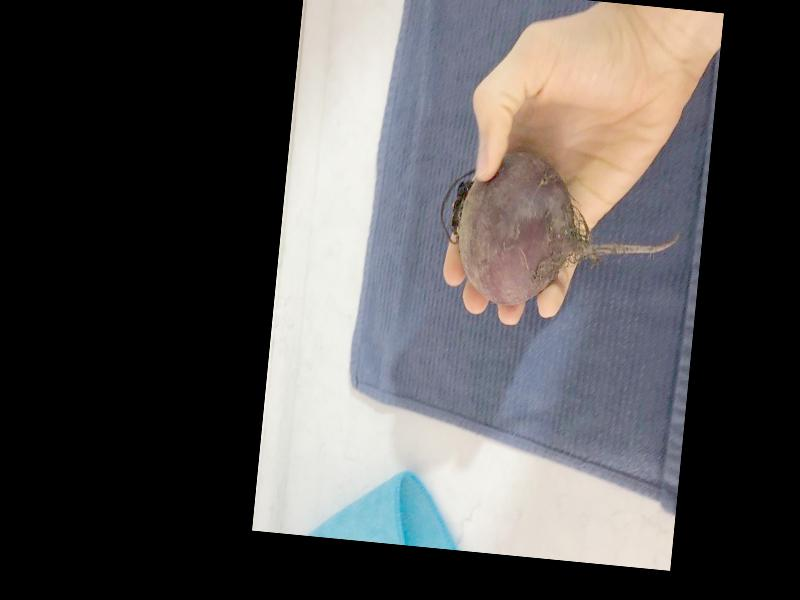Beet: (433, 145, 686, 321)
